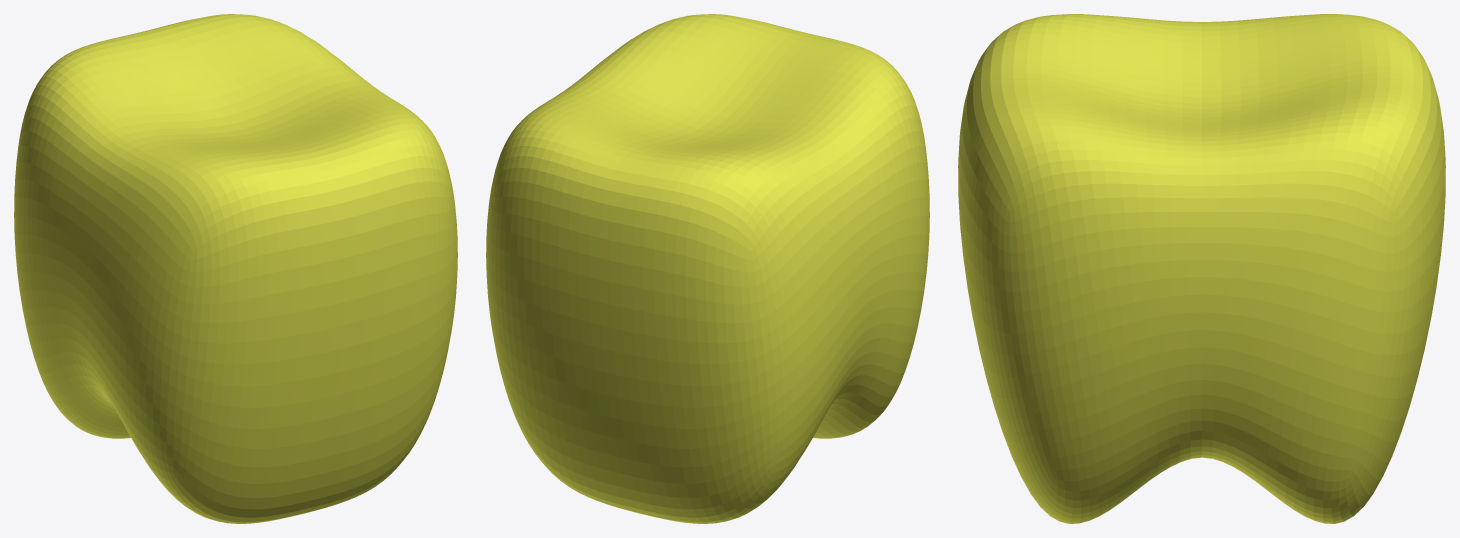
File: dirty_tooth.glb
3 views of the same model, side by side, from view 1: azimuth 30°, elevation 25°; view 2: azimuth 150°, elevation 25°; view 3: azimuth 270°, elevation 25° (orthographic). The views are drawn at different scales.
Parts seen in each view (by area): view 1: Cube; view 2: Cube; view 3: Cube.
Boxes of the visible parts, x1,y1,x2,y2 form: Cube: (14, 14, 457, 523); Cube: (486, 14, 929, 523); Cube: (958, 14, 1445, 523).
Size of the model in its own units: 1.12 by 1.22 by 1.28.
